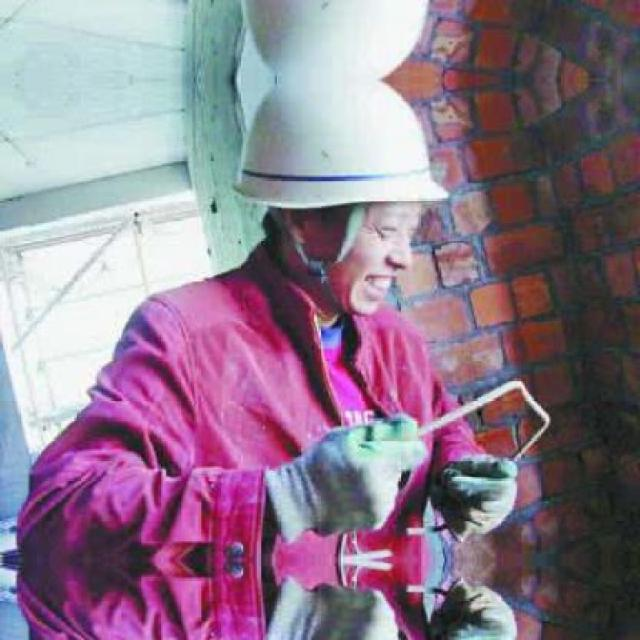helmet: (221, 82, 447, 318), (220, 0, 447, 78)
